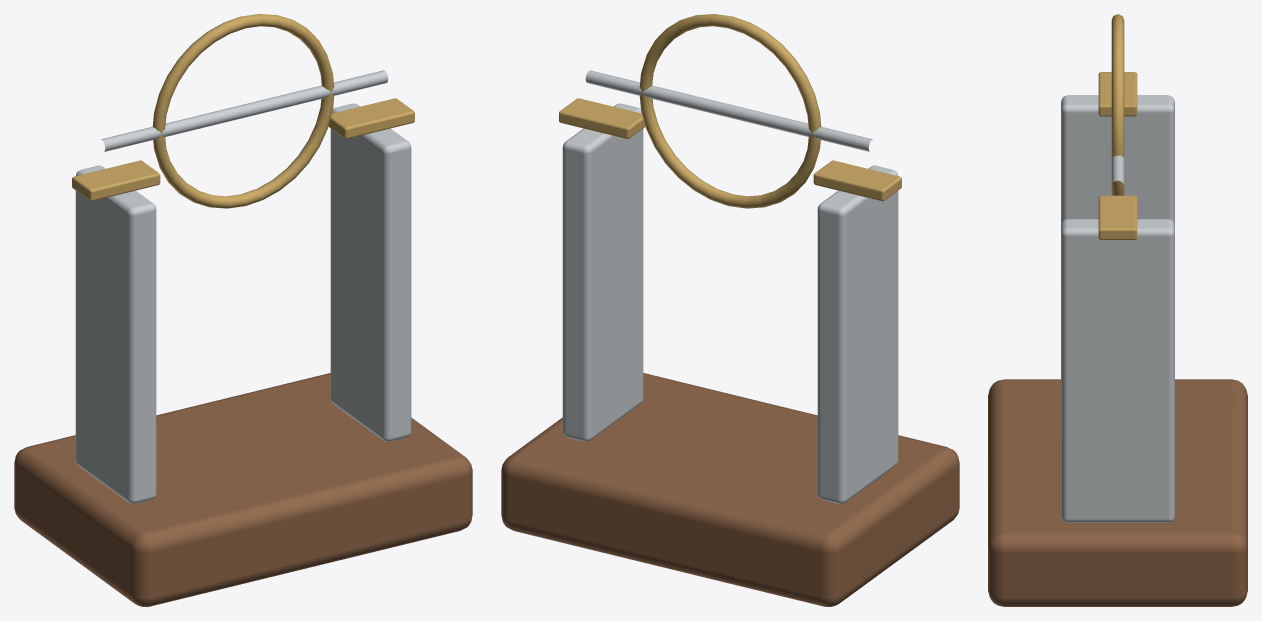
The model's file is clockmaker-and-watch-repair-balance-stand-7ddf3af6__30620.glb.
3 renders of one model, left to right at view 1: azimuth 30°, elevation 25°; view 2: azimuth 150°, elevation 25°; view 3: azimuth 270°, elevation 25°, orthographic.
Visible parts, largest first — view 1: balance-stand; view 2: balance-stand; view 3: balance-stand.
Part boxes in pixels (left/top/right/bottom): balance-stand: left=14, top=14, right=472, bottom=606; balance-stand: left=501, top=14, right=959, bottom=606; balance-stand: left=988, top=14, right=1247, bottom=606.
Size of the model in its own units: 0.12 by 0.172 by 0.08.
